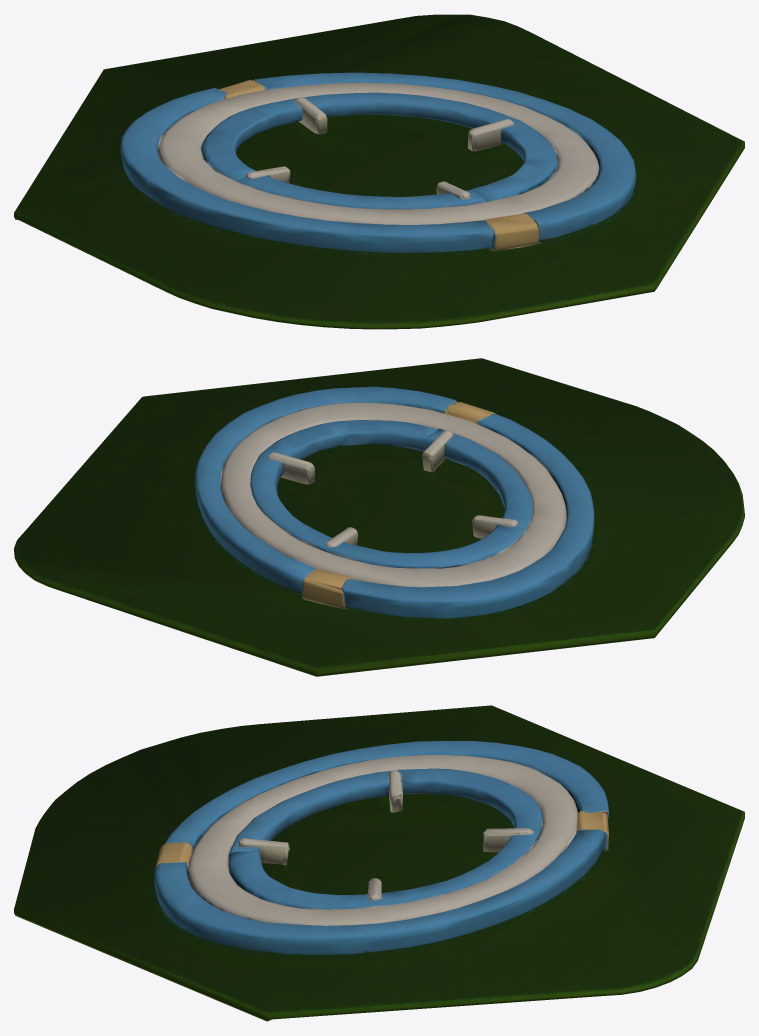
Rendered from ball-locator.glb.
3 renders of one model, top to bottom at view 1: azimuth 30°, elevation 25°; view 2: azimuth 150°, elevation 25°; view 3: azimuth 270°, elevation 25°, orthographic. The views are drawn at different scales.
Parts seen in each view (by area): view 1: Ball locator target; view 2: Ball locator target; view 3: Ball locator target.
Part boxes in pixels (x1,y1,x2,y2): Ball locator target: (14, 14, 744, 329); Ball locator target: (14, 358, 744, 676); Ball locator target: (14, 705, 744, 1021).
Bounding box in the file's own units: 0.998 × 0.0566 × 0.998.
1 material, 1 textured.
